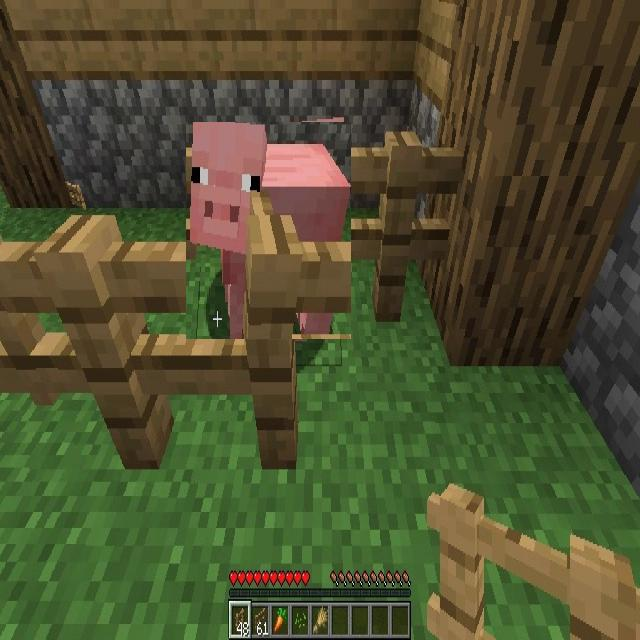pig: (186, 122, 351, 339)
